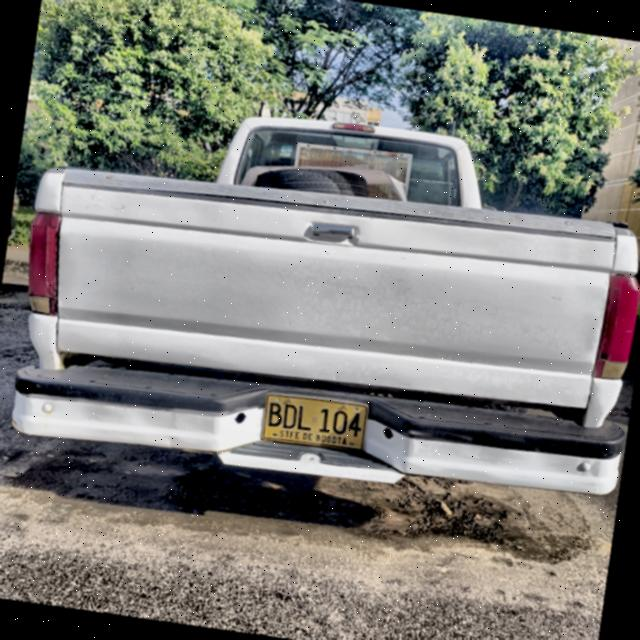0: (330, 408, 350, 436)
1: (317, 406, 333, 434)
4: (346, 410, 364, 440)
B: (266, 402, 284, 428)
D: (280, 403, 298, 430)
L: (296, 404, 314, 432)
